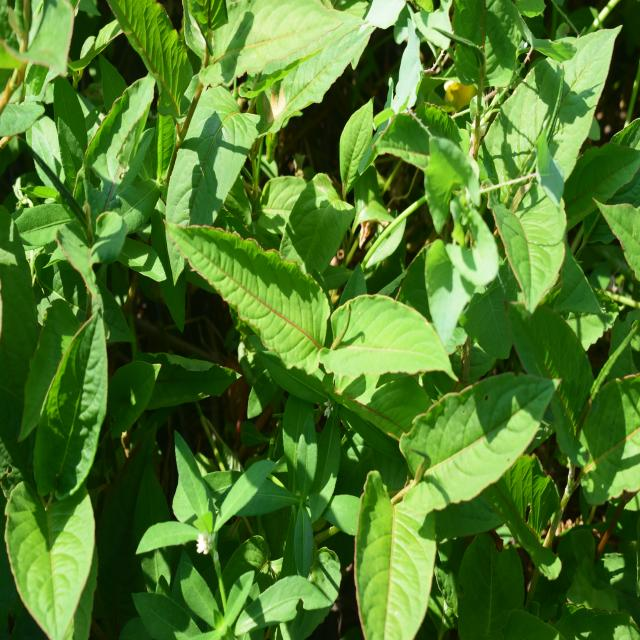Chinese_knotweed: (344, 353, 542, 640), (171, 209, 432, 403), (0, 248, 133, 620)
